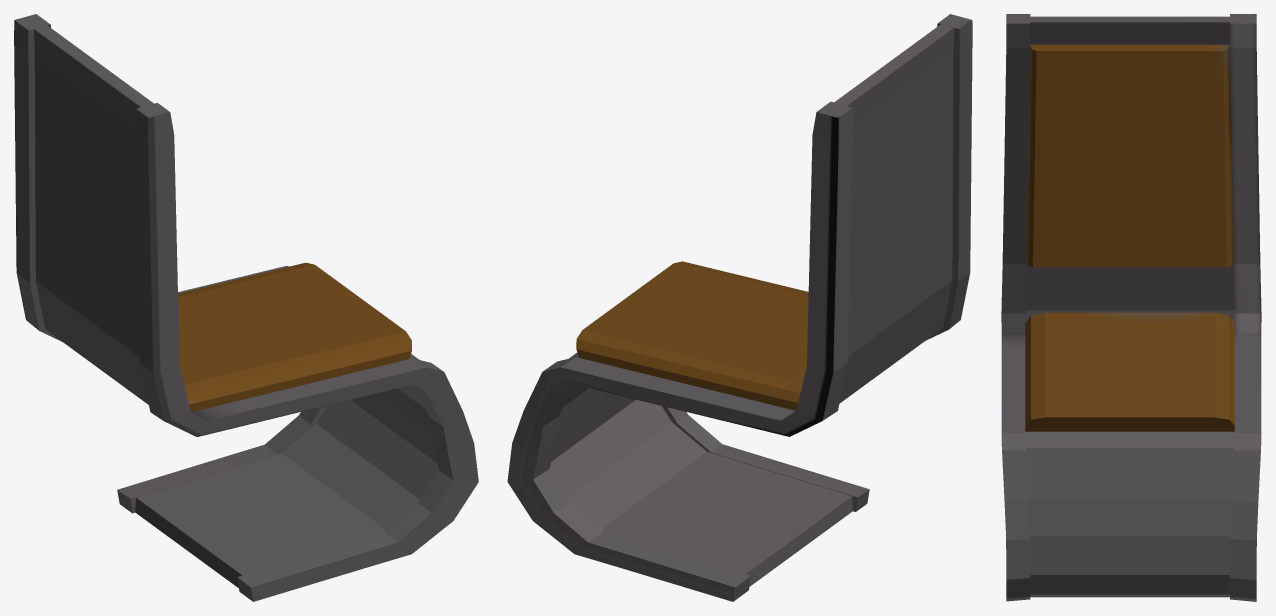
The model's file is Chair.glb.
3 views of the same model, side by side, from view 1: azimuth 30°, elevation 25°; view 2: azimuth 150°, elevation 25°; view 3: azimuth 270°, elevation 25° (orthographic). The views are drawn at different scales.
Parts seen in each view (by area): view 1: Cube.009; view 2: Cube.009; view 3: Cube.009.
Boxes of the visible parts, <box> form: Cube.009: <box>14,14,478,601</box>; Cube.009: <box>507,14,972,601</box>; Cube.009: <box>1001,14,1261,601</box>.
Bounding box in the file's own units: 2.66 × 3.92 × 1.94.
1 material, 1 textured.
